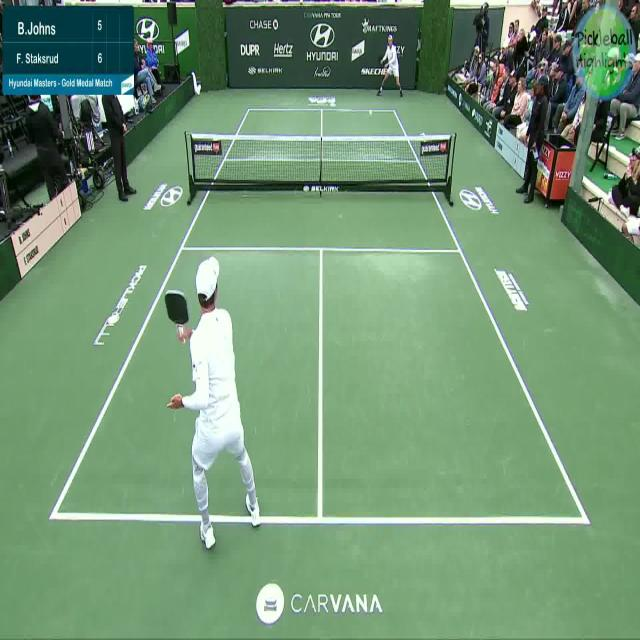ball: (369, 107, 373, 115)
